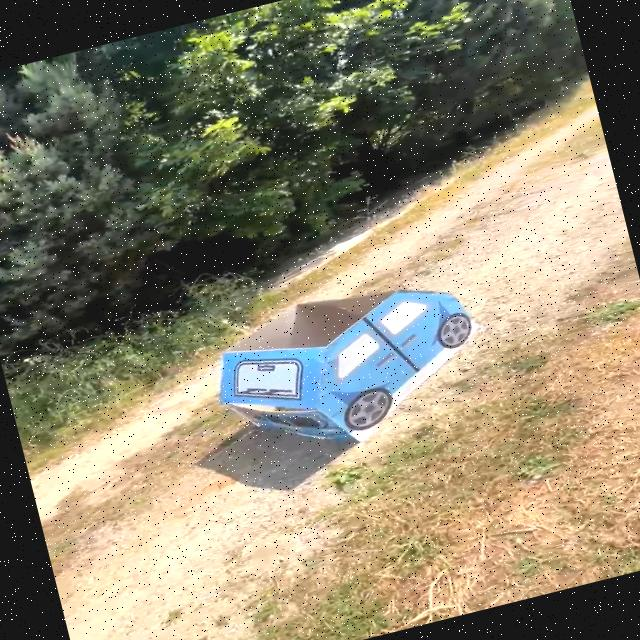blue_car: (172, 244, 517, 499)
